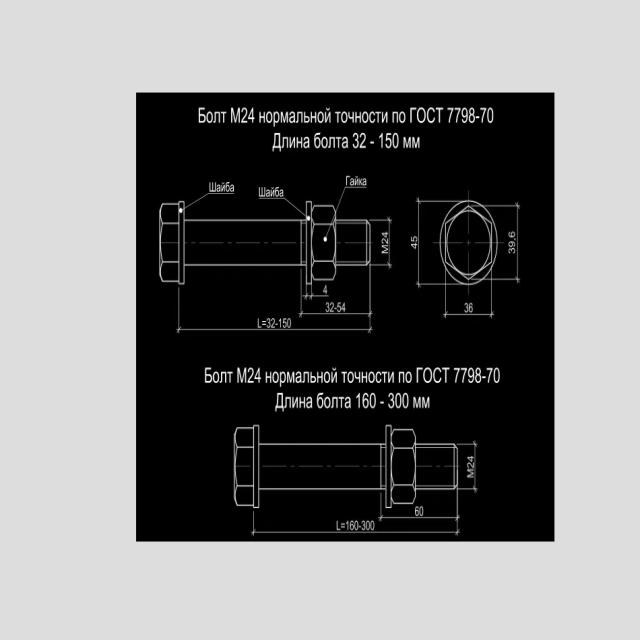marking_line: (175, 325, 374, 338), (251, 530, 463, 538), (415, 198, 521, 208), (415, 197, 423, 289), (297, 312, 375, 318), (442, 312, 498, 320), (379, 516, 463, 521), (387, 216, 394, 272), (473, 440, 480, 495), (302, 293, 332, 302), (416, 281, 461, 286)
numeric: (378, 133, 402, 152), (387, 392, 410, 411), (357, 393, 378, 412), (484, 365, 503, 385), (347, 520, 377, 532), (267, 318, 295, 330), (352, 131, 368, 151), (505, 231, 517, 257), (326, 302, 348, 315), (468, 364, 481, 386), (463, 298, 477, 315), (459, 365, 469, 386), (450, 366, 460, 386), (408, 234, 418, 251), (414, 505, 428, 517), (380, 233, 389, 246), (467, 454, 474, 467), (323, 285, 329, 295)
